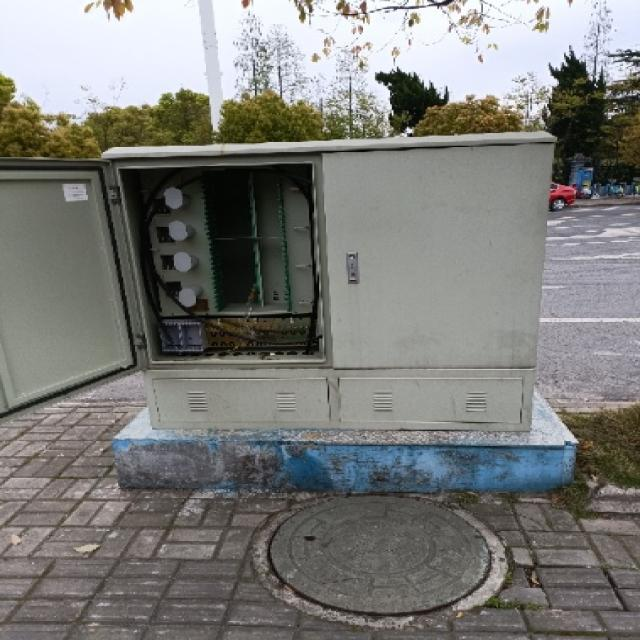Good: (247, 486, 517, 620)
